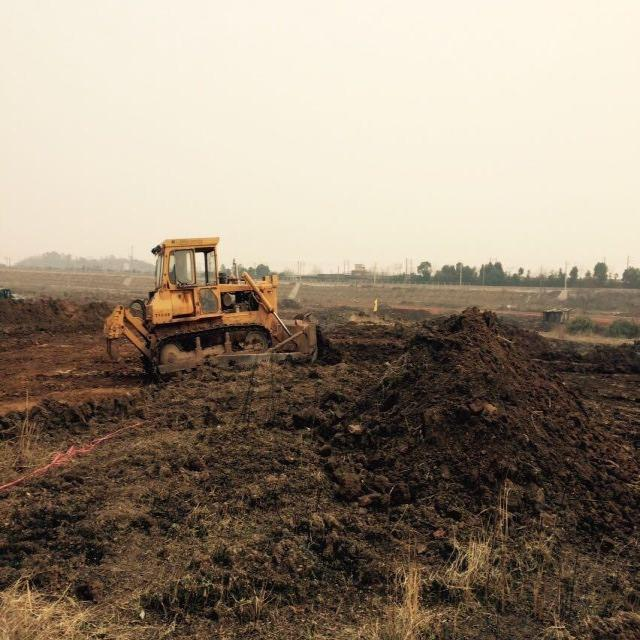machinery: (102, 236, 317, 384)
